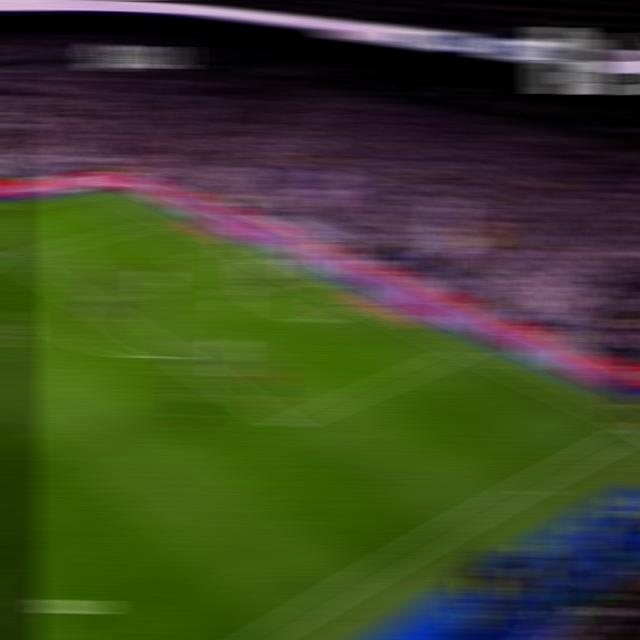bigarea_bottom_inner: (271, 415, 300, 435)
bigarea_top_inner: (0, 250, 25, 263)
bigarea_top_outter: (158, 214, 182, 224)
bottom_arc_area_intersection: (160, 346, 188, 364)
corner: (95, 187, 117, 194)
smallarea_bottom_inner: (298, 314, 325, 332)
smallarea_bottom_outter: (350, 300, 372, 310)
smallarea_top_inner: (176, 256, 199, 266)
top_arc_area_intersection: (68, 291, 91, 303)
